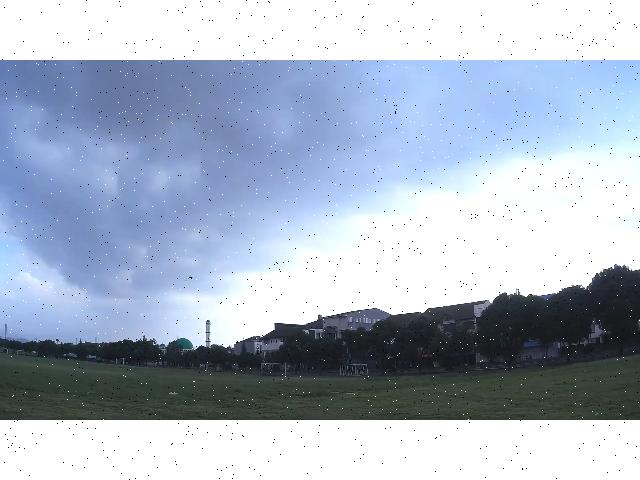Anti-Drone: (176, 266, 200, 286)
